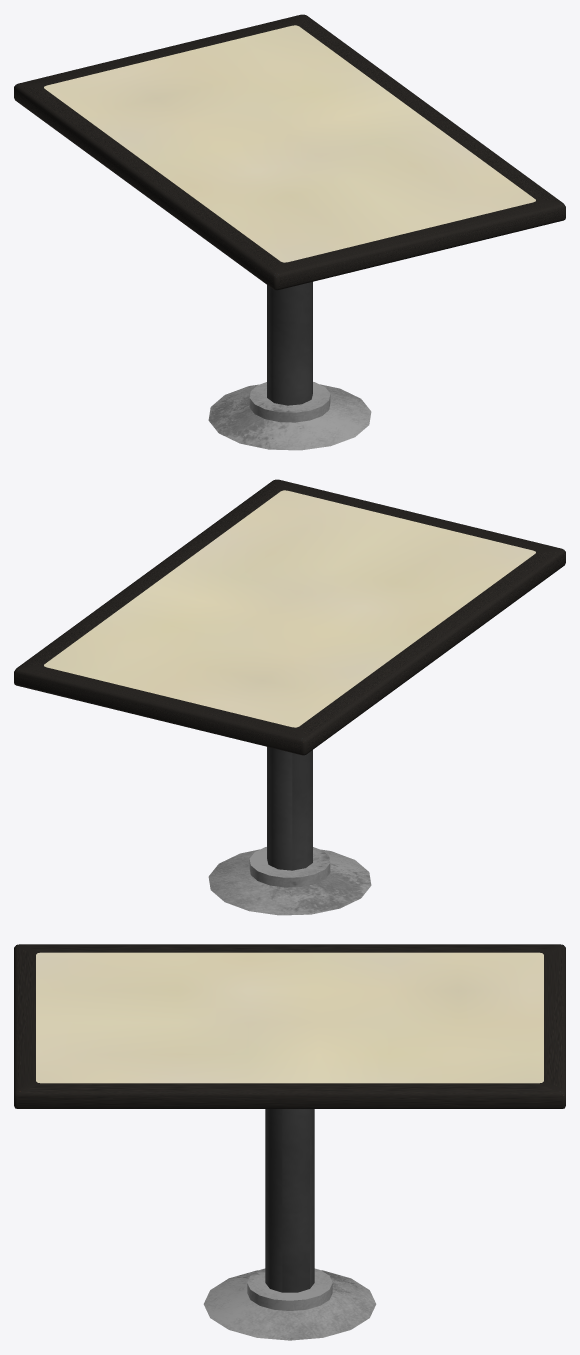
Rendered from Table Black.fbx.
3 views of the same model, one above another, from view 1: azimuth 30°, elevation 25°; view 2: azimuth 150°, elevation 25°; view 3: azimuth 270°, elevation 25° (orthographic). The views are drawn at different scales.
Visible parts, largest first — view 1: Table Black; view 2: Table Black; view 3: Table Black.
Part boxes in pixels (bbox=[...]): Table Black: bbox=[14, 14, 565, 450]; Table Black: bbox=[14, 479, 565, 915]; Table Black: bbox=[14, 944, 565, 1340].
Size of the model in its own units: 63.54 by 56.52 by 98.8.
